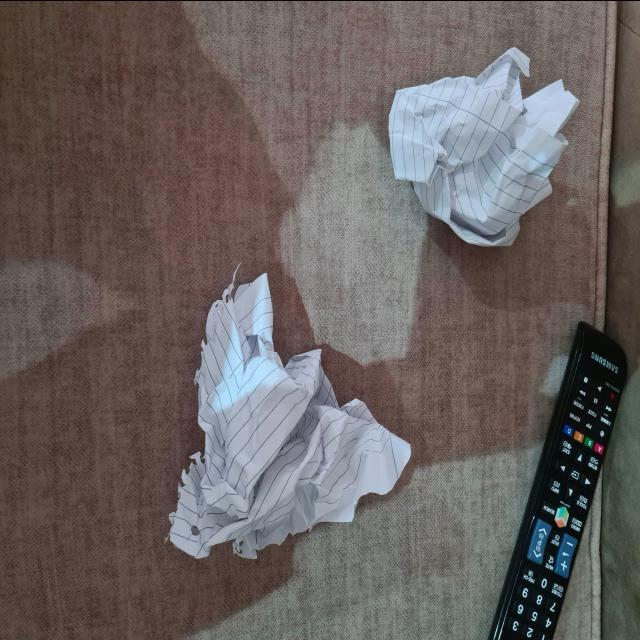Paper: (160, 280, 430, 569), (386, 44, 570, 268)
